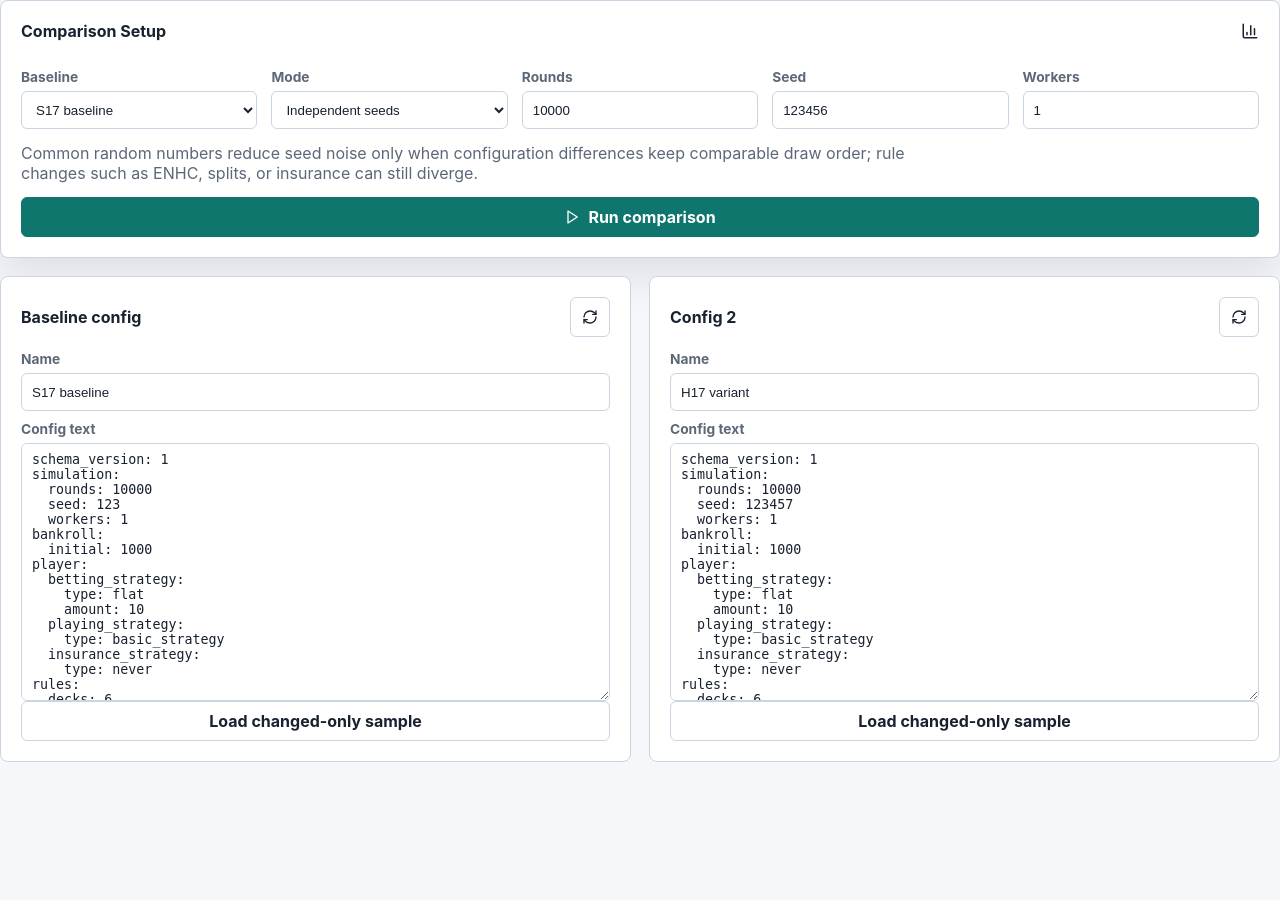
it: ComparisonPage › creates a comparison and shows baseline deltas
Step 1. Click the button "Run comparison" → (640, 217), box left=21, top=197, right=1259, bottom=237
(page scrolled)
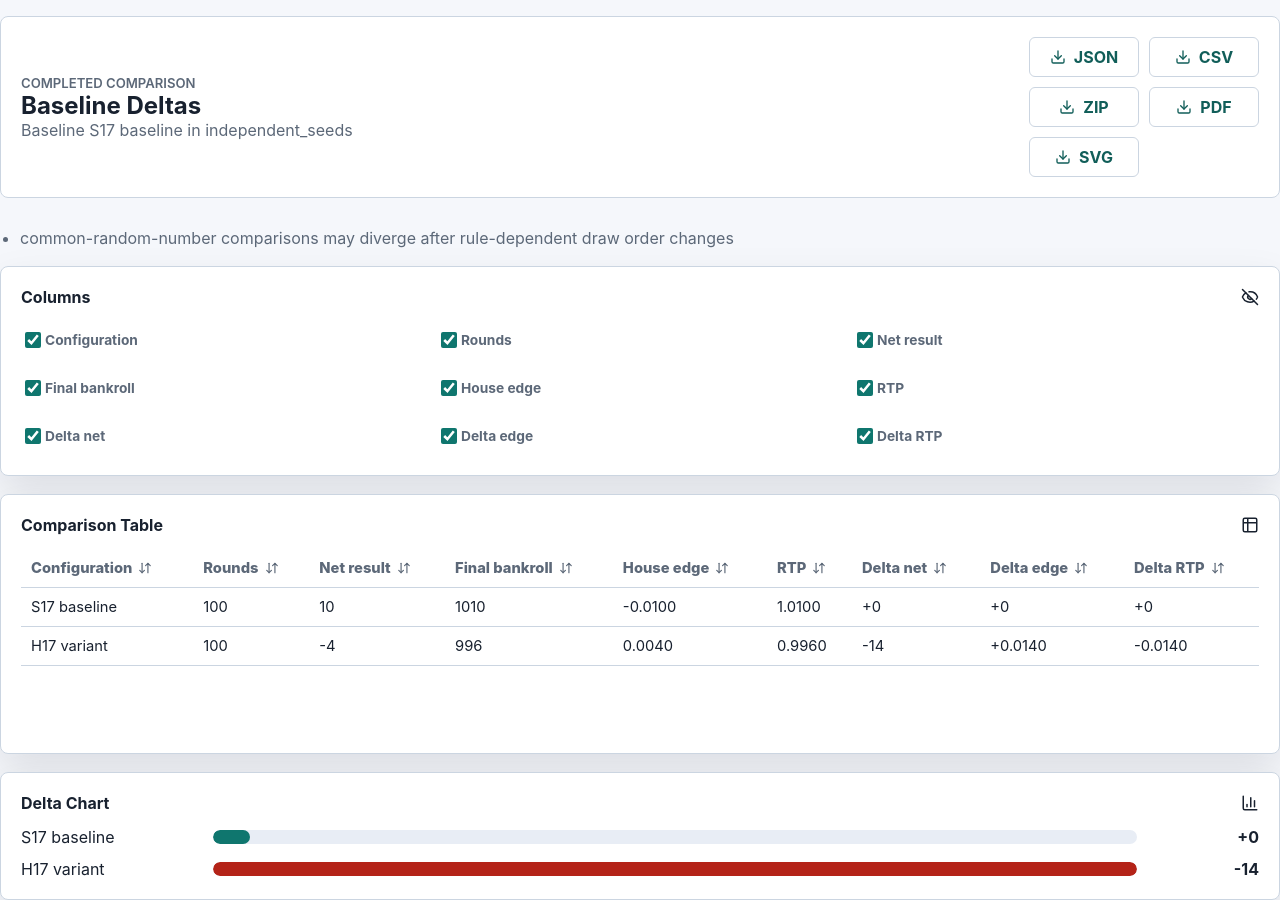
Expected: the heading "Baseline Deltas" is shown, left=21, top=90, right=201, bottom=120
Expected: the text "-14" is shown, left=852, top=626, right=980, bottom=666
